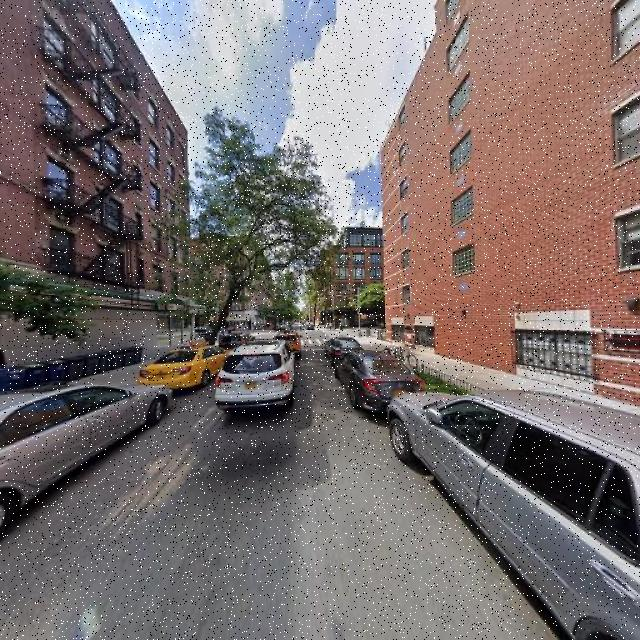Building: (385, 1, 640, 419), (1, 1, 190, 395), (315, 242, 383, 333)
